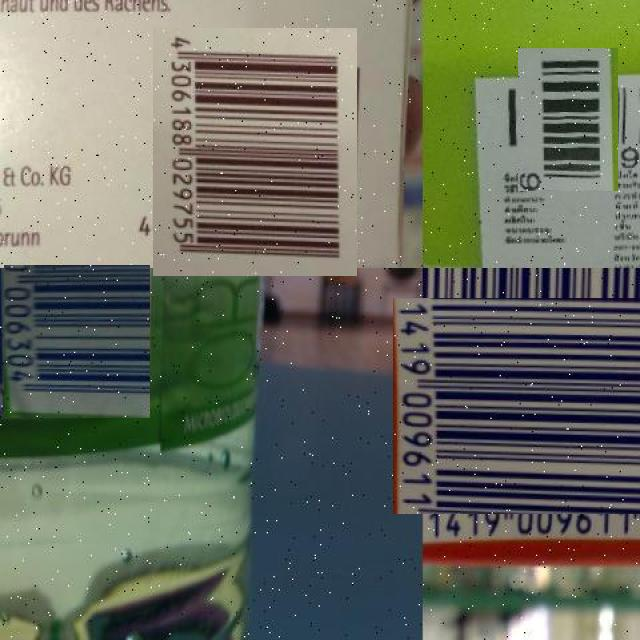Barcode: (408, 282, 640, 529), (141, 39, 368, 265), (2, 266, 152, 416), (507, 58, 629, 180)
